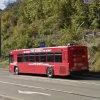Bus: (7, 43, 91, 80)
